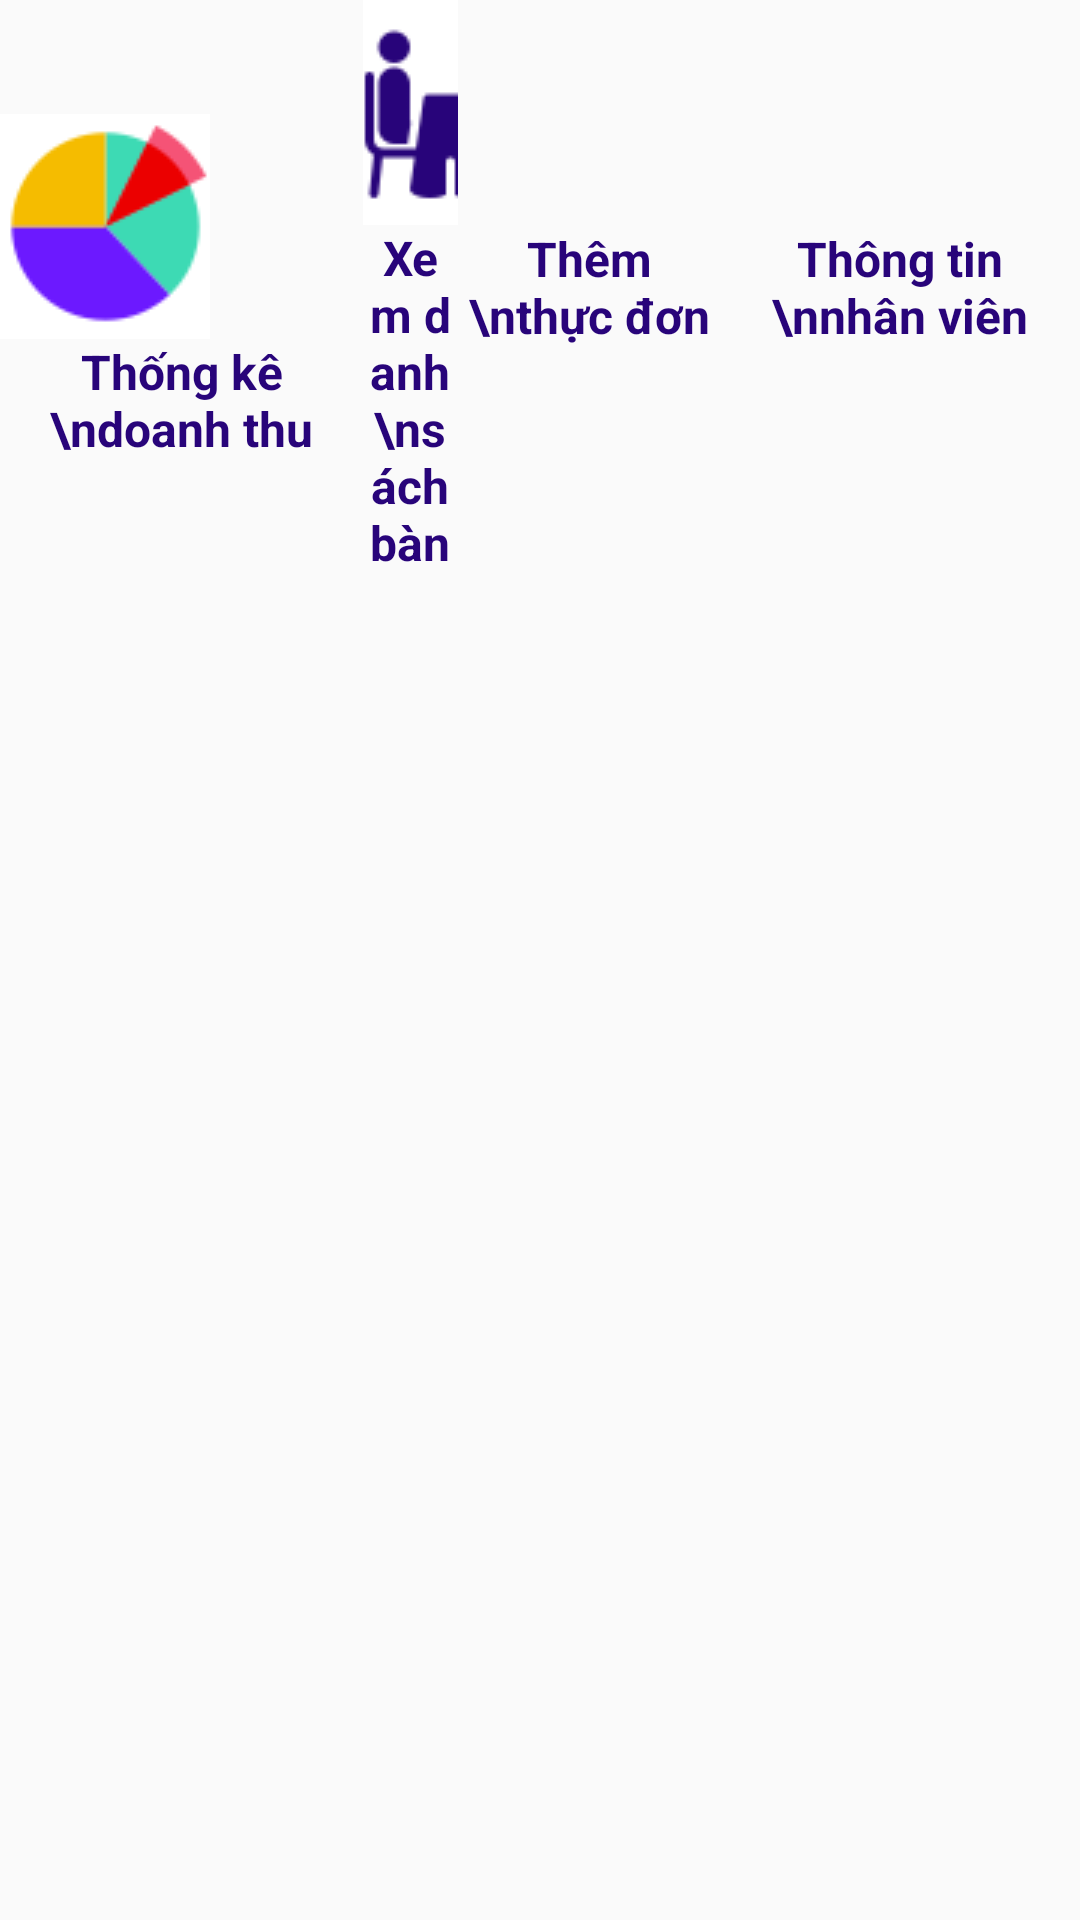

Where to tap for icons on this 1080 x 1920 app screen, as (x,y):
chart: (108,223)
